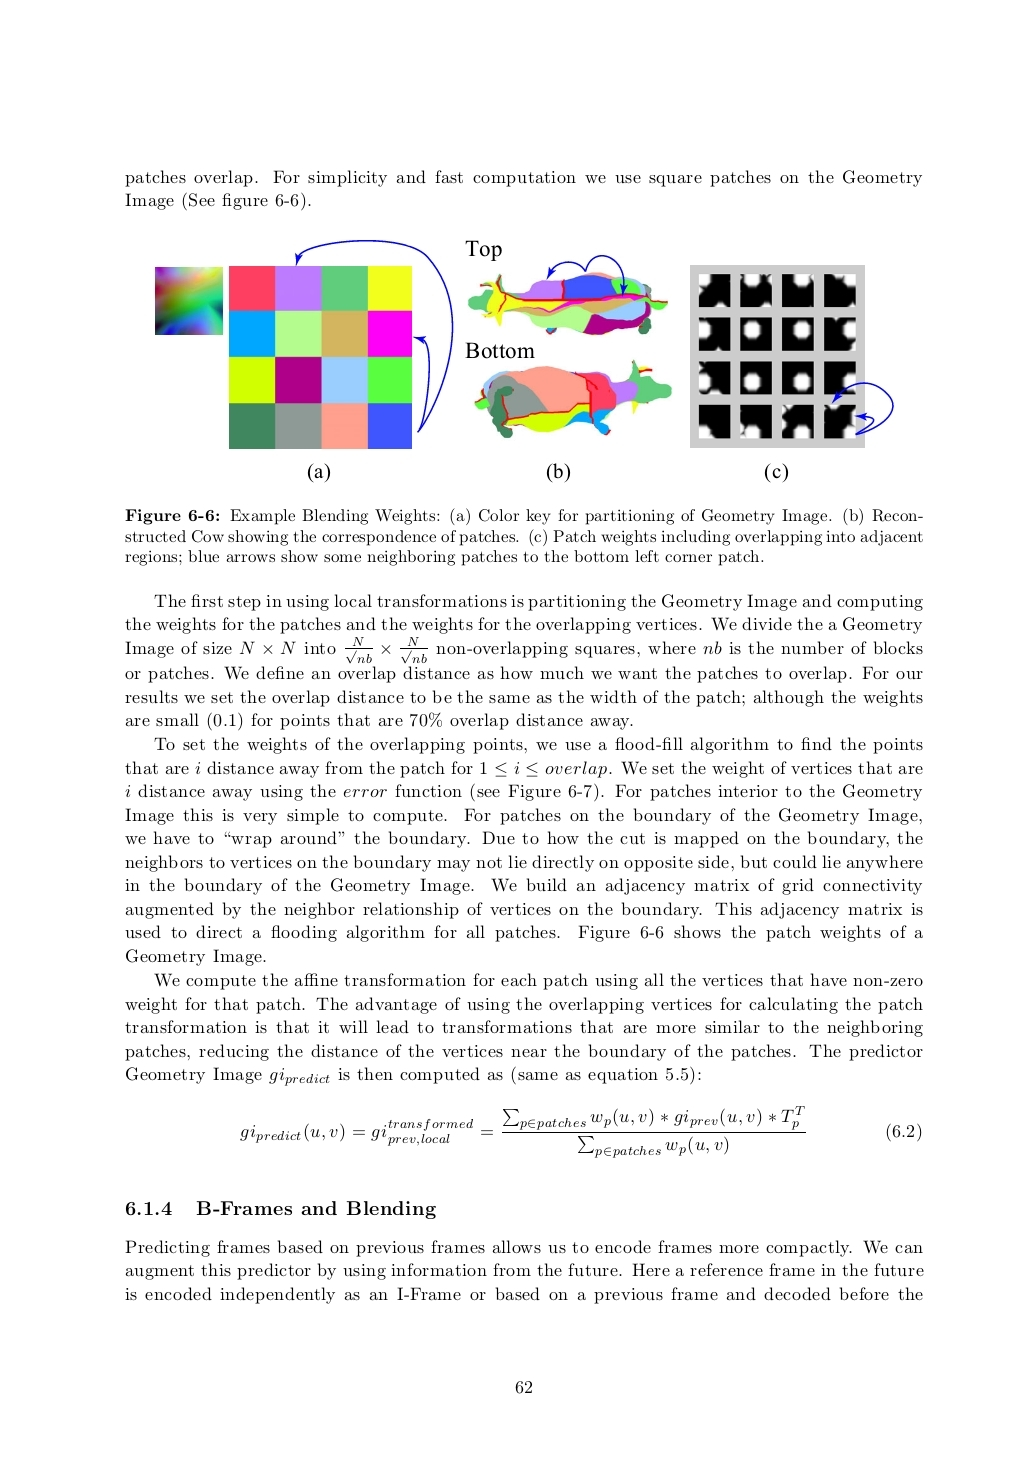figure: (155, 240, 453, 448), (465, 240, 671, 437), (690, 265, 893, 447)
formula: (240, 1105, 921, 1158)
